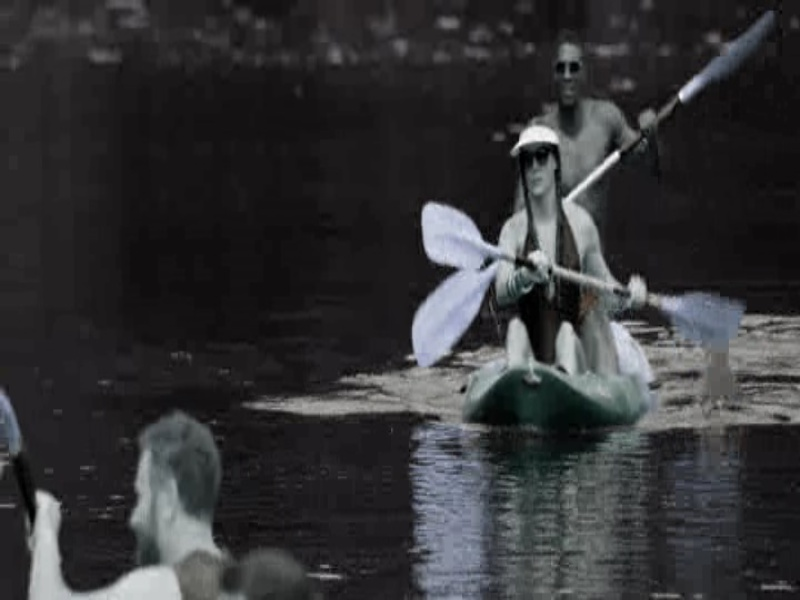TsisyArotava: (504, 124, 573, 210)
